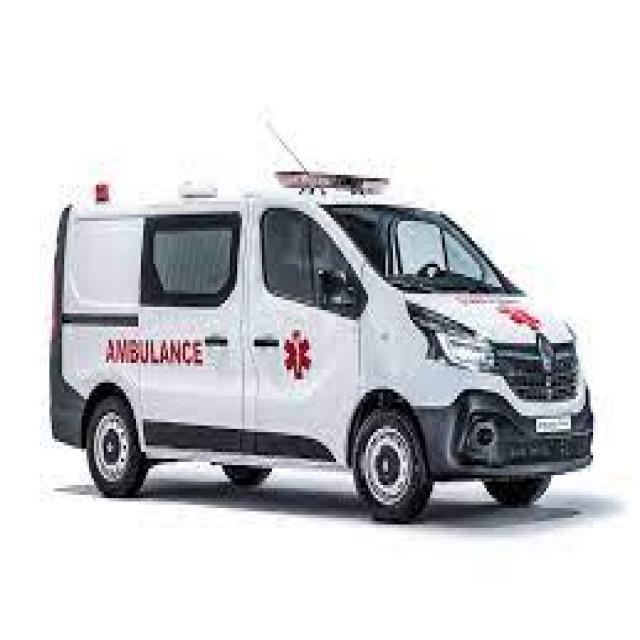ambulance: (47, 169, 591, 521)
